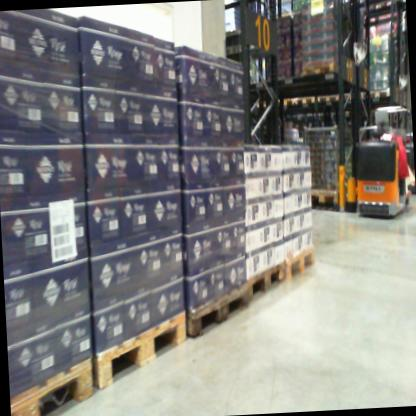pallet: (88, 304, 199, 395), (8, 360, 104, 416), (181, 279, 258, 342), (241, 254, 289, 319), (283, 237, 317, 284), (299, 182, 339, 214), (302, 55, 346, 79), (360, 83, 400, 102), (357, 0, 393, 16), (317, 89, 341, 109), (253, 97, 278, 116), (293, 93, 316, 110), (277, 94, 294, 115)
pallet_truck: (348, 109, 413, 222)
